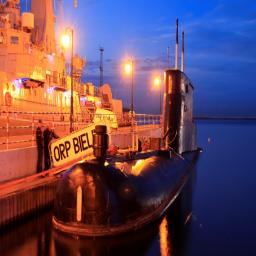submarine: (51, 18, 216, 234)
